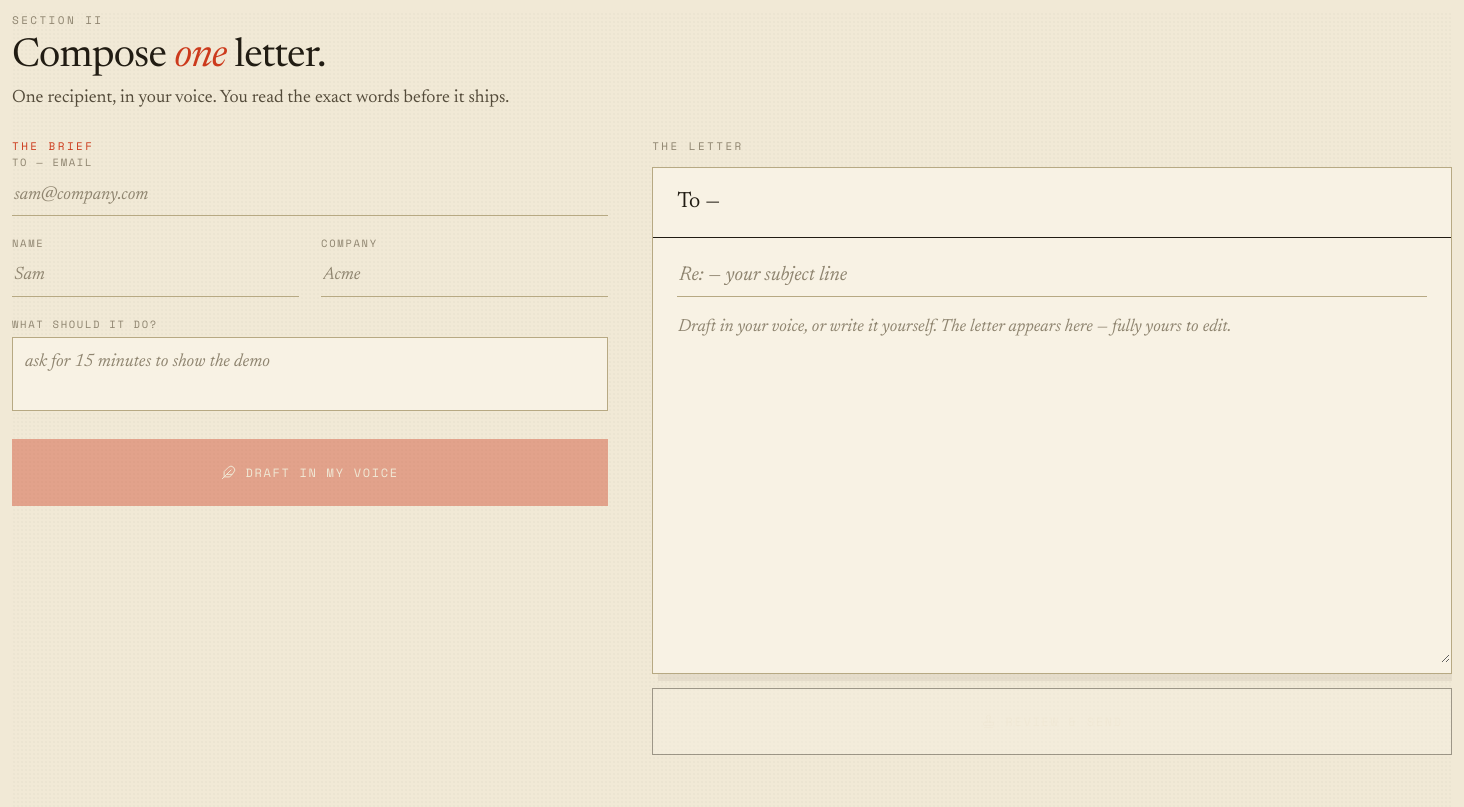
Scenario: ComposePage — generating › renders a visible warning when the fidelity score is under 80
Type "sam@corp.com" into the field labelled "To — email" at [310, 196], box [12,176,608,216]
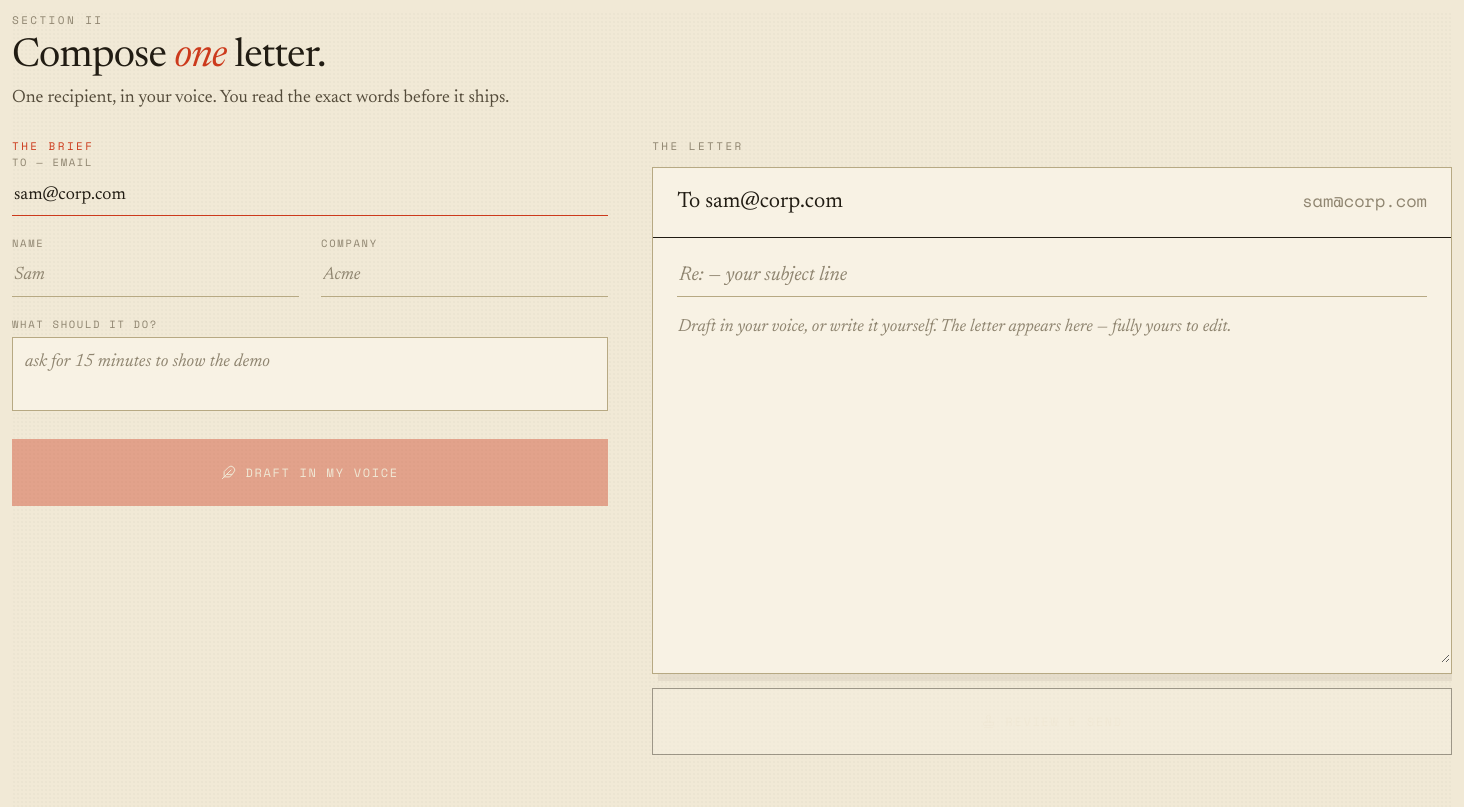
Type "ask for 15 minutes" into the text box labelled "What should it do?" at [310, 374], box [12,337,608,411]
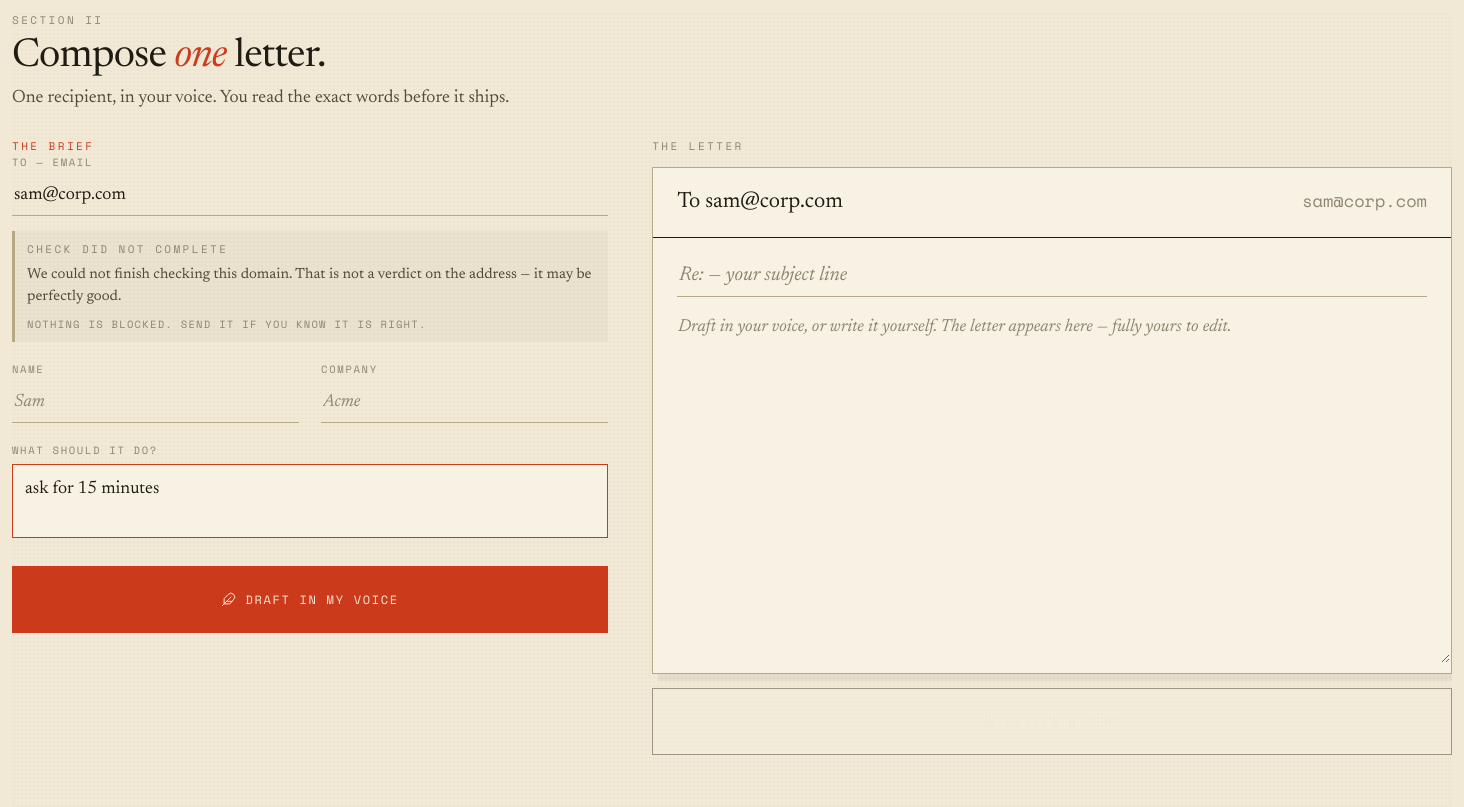
Click the button "Draft in my voice" at [310, 600], box [12,566,608,633]
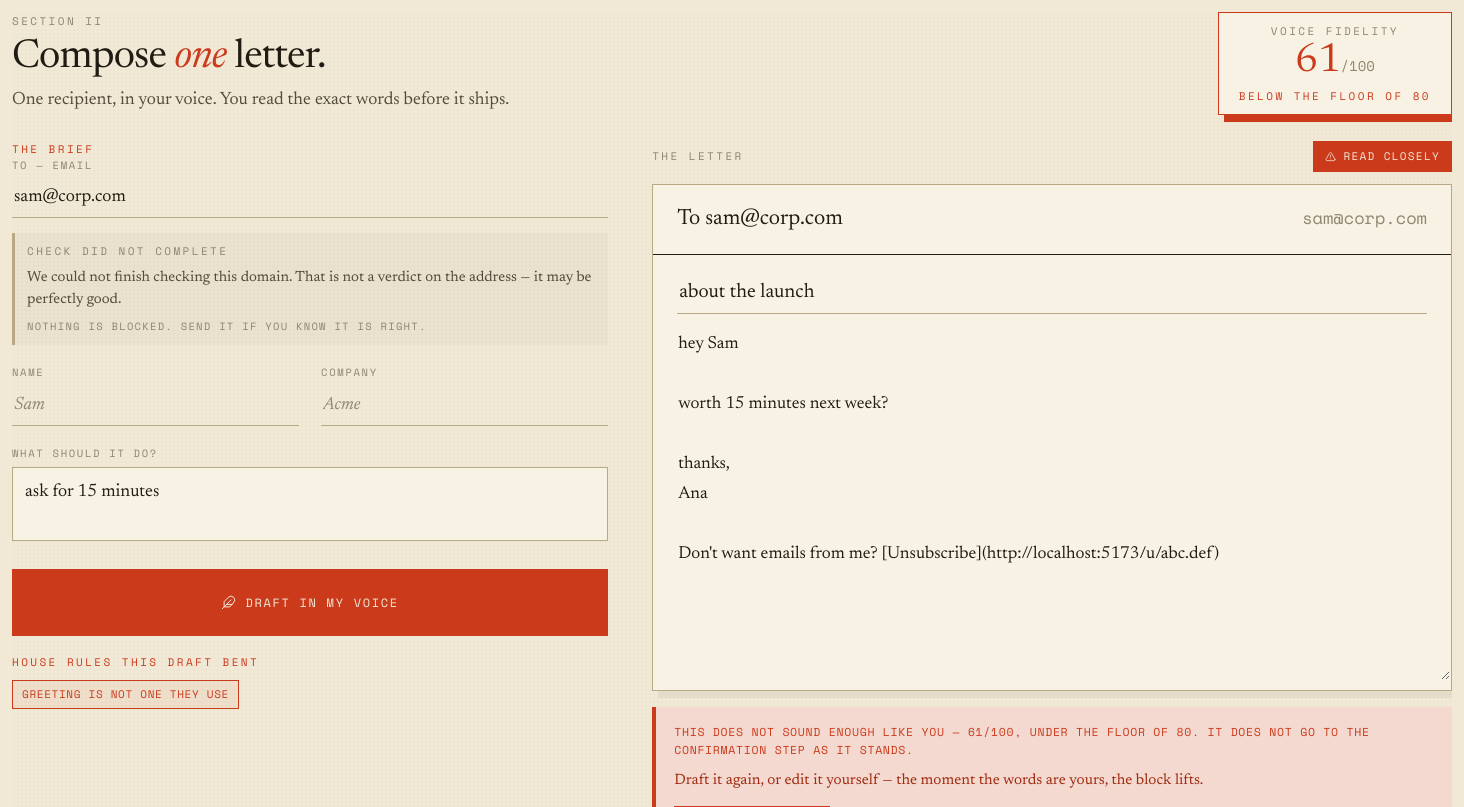
Expected: the text "61" shows "/100", [1341,54,1375,76]
Expected: the text with class "error" shows "does not sound enough like you", [674,723,968,740]
Expected: the text "read closely" is shown, [1313,141,1452,172]
